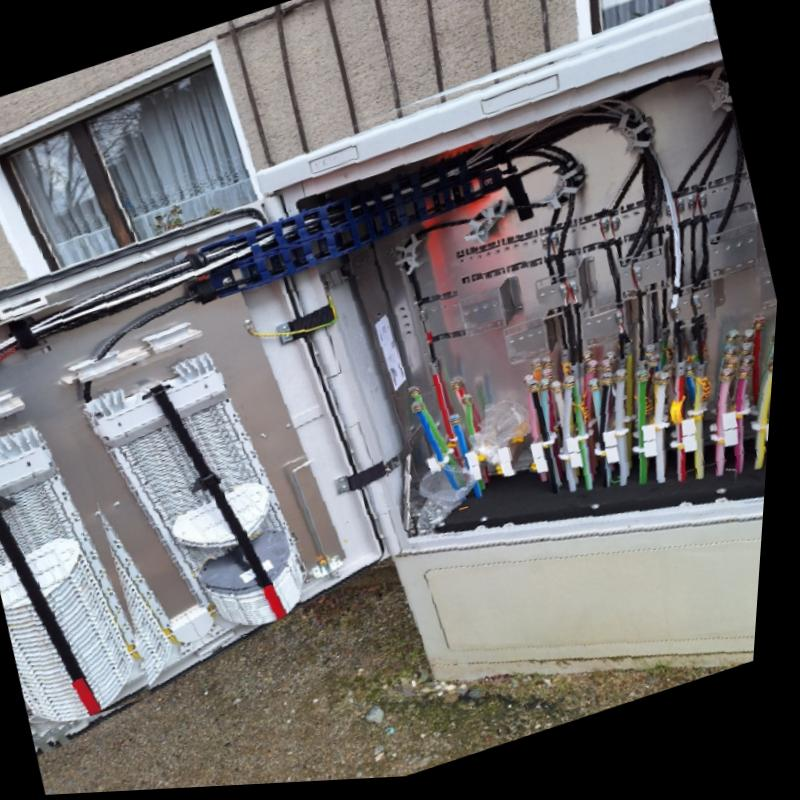NT-Gehause: (0, 16, 782, 752)
Spleiskassetten: (61, 313, 309, 634), (0, 383, 156, 722)
